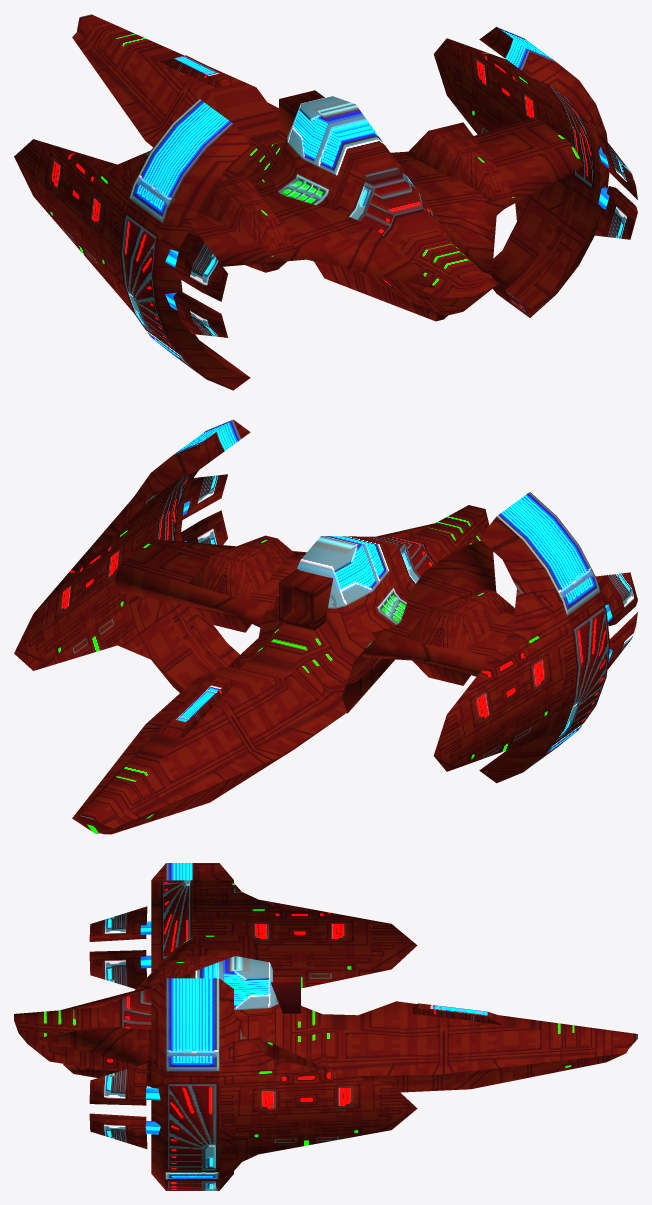
The model's file is Vul_Ktra.fbx.
3 renders of one model, top to bottom at view 1: azimuth 30°, elevation 25°; view 2: azimuth 150°, elevation 25°; view 3: azimuth 270°, elevation 25°, orthographic. The views are drawn at different scales.
Visible parts, largest first — view 1: Vul_Ktra; view 2: Vul_Ktra; view 3: Vul_Ktra.
Boxes of the visible parts, x1=… form: Vul_Ktra: x1=14, y1=14, x2=637, y2=390; Vul_Ktra: x1=14, y1=419, x2=637, y2=834; Vul_Ktra: x1=14, y1=863, x2=637, y2=1190.
Size of the model in its own units: 268 by 149 by 397.
1 material, 1 textured.
